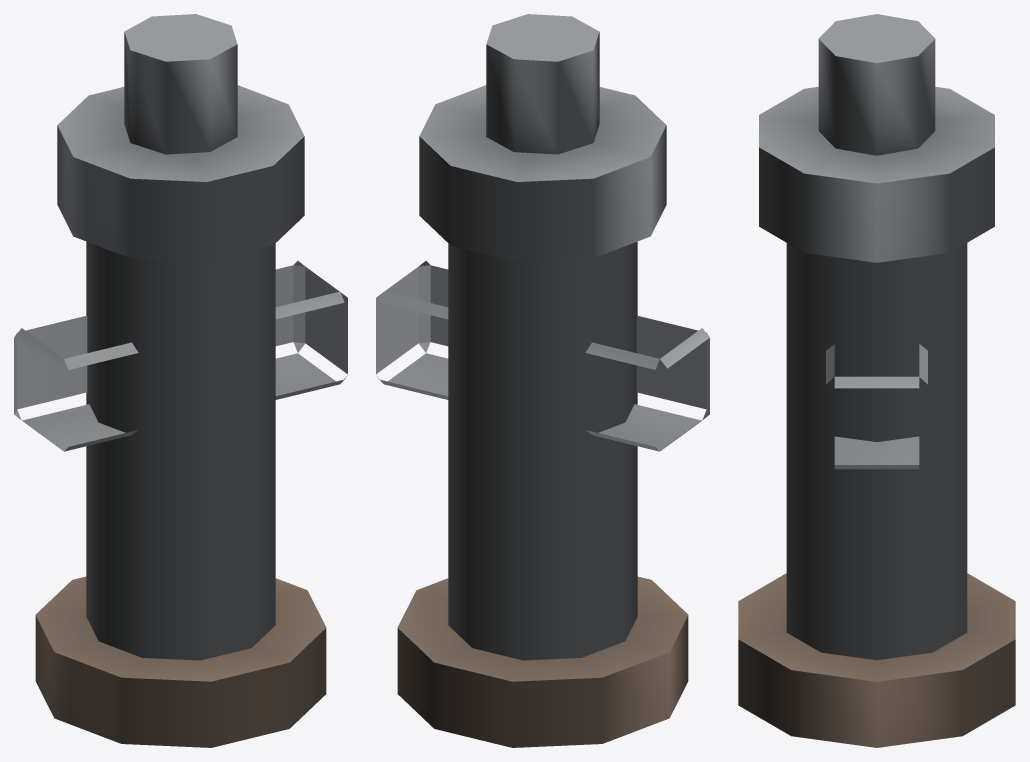
File: hydrant.glb
The picture shows the model from 3 angles, left to right: view 1: azimuth 30°, elevation 25°; view 2: azimuth 150°, elevation 25°; view 3: azimuth 270°, elevation 25°; orthographic projection.
Parts seen in each view (by area): view 1: props_hydrant; view 2: props_hydrant; view 3: props_hydrant.
Boxes of the visible parts, left/top/right/bottom form: props_hydrant: left=14, top=14, right=347, bottom=747; props_hydrant: left=376, top=14, right=709, bottom=747; props_hydrant: left=738, top=14, right=1015, bottom=747.
Size of the model in its own units: 0.46 by 0.98 by 0.3805.
